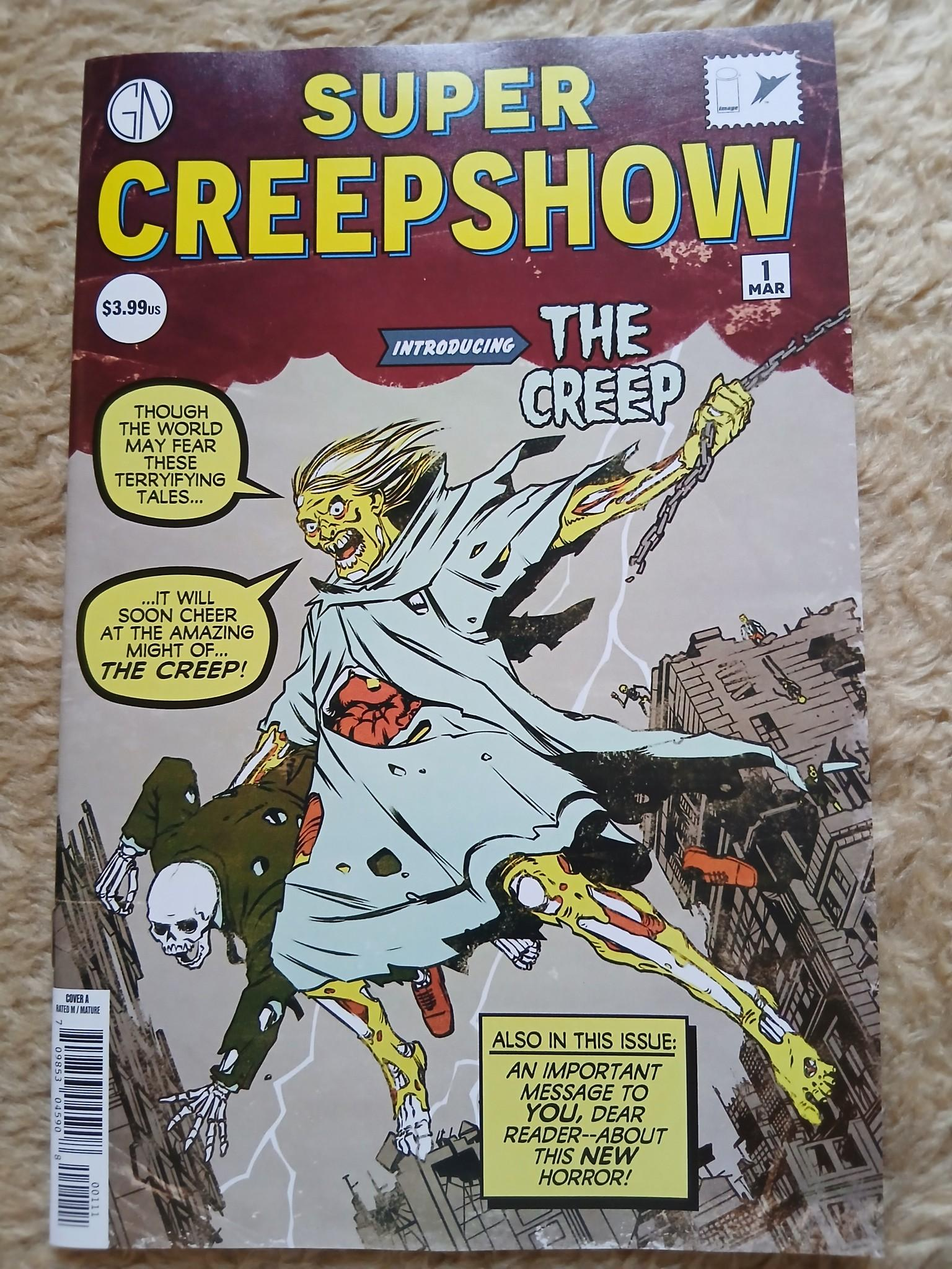comic: (51, 19, 889, 1253)
